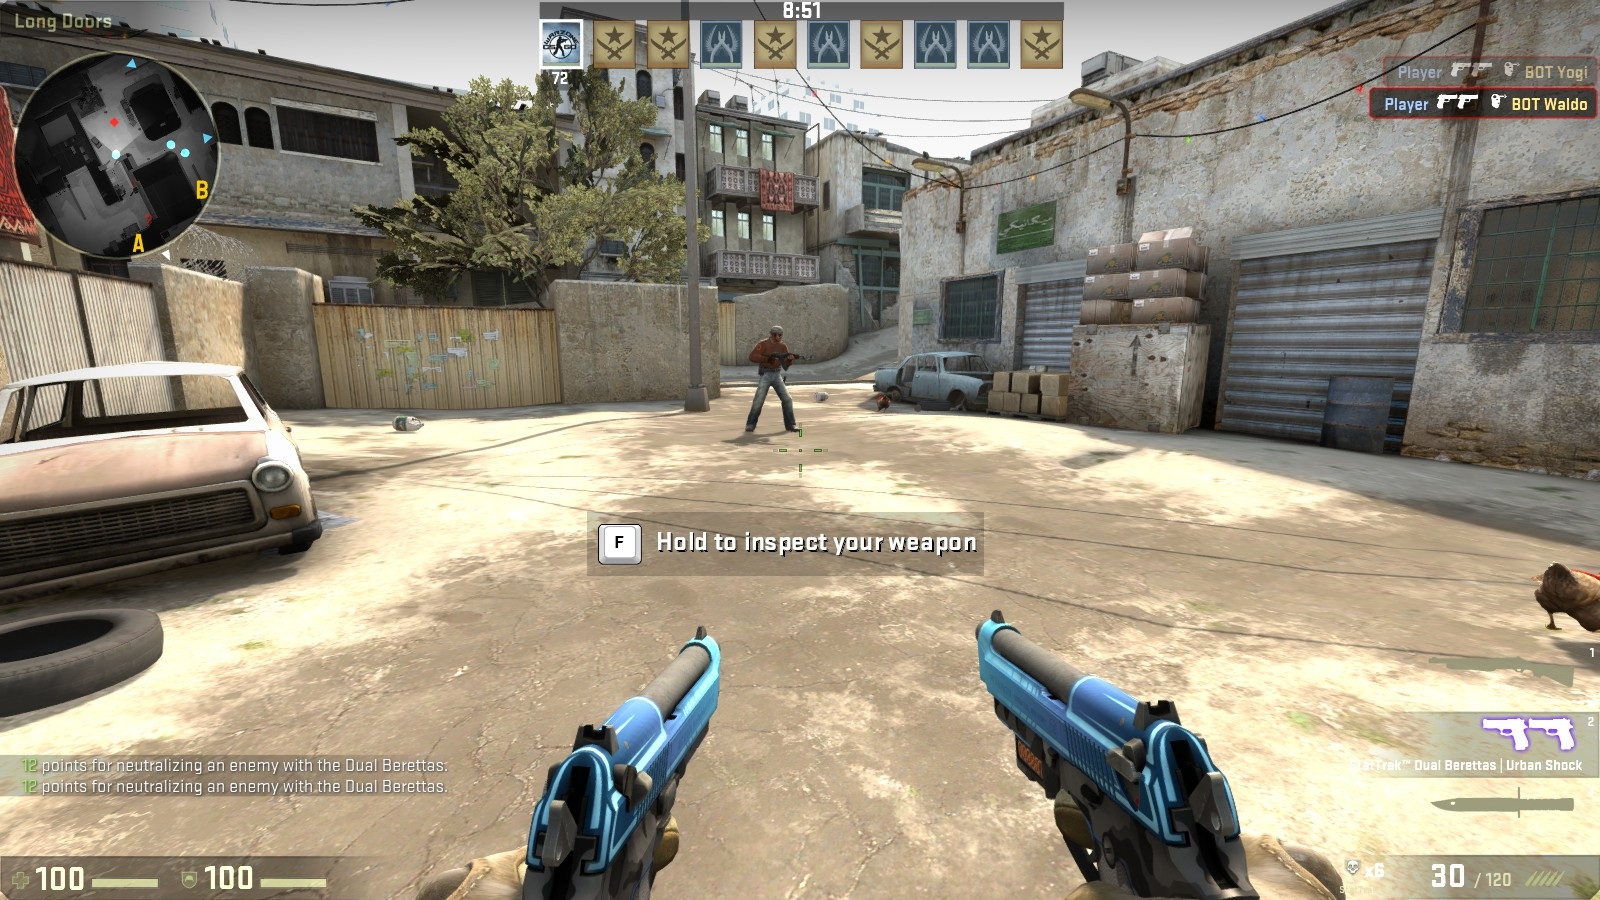t: (749, 324, 795, 432)
th: (768, 324, 784, 344)
